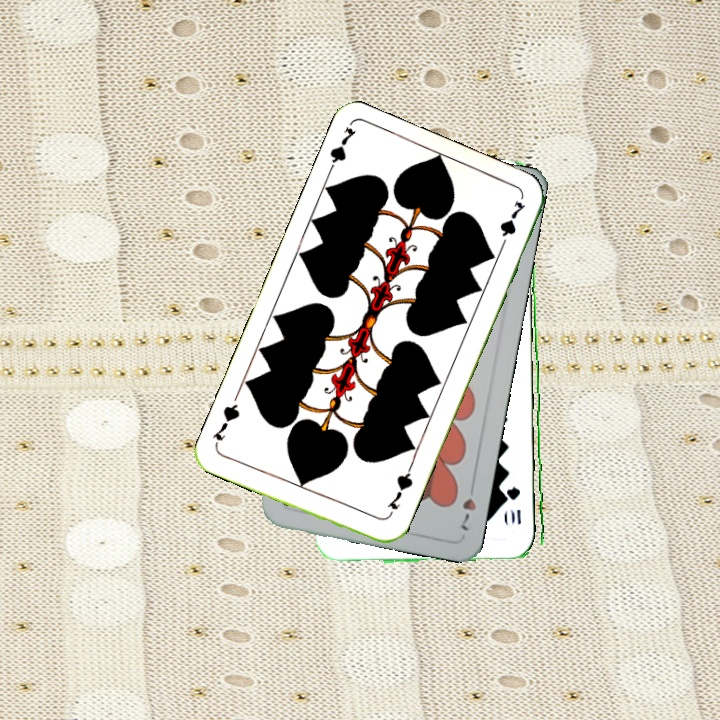G10: (506, 483, 523, 527)
G7: (322, 123, 359, 180), (383, 464, 416, 520)
H7: (456, 477, 479, 534)
